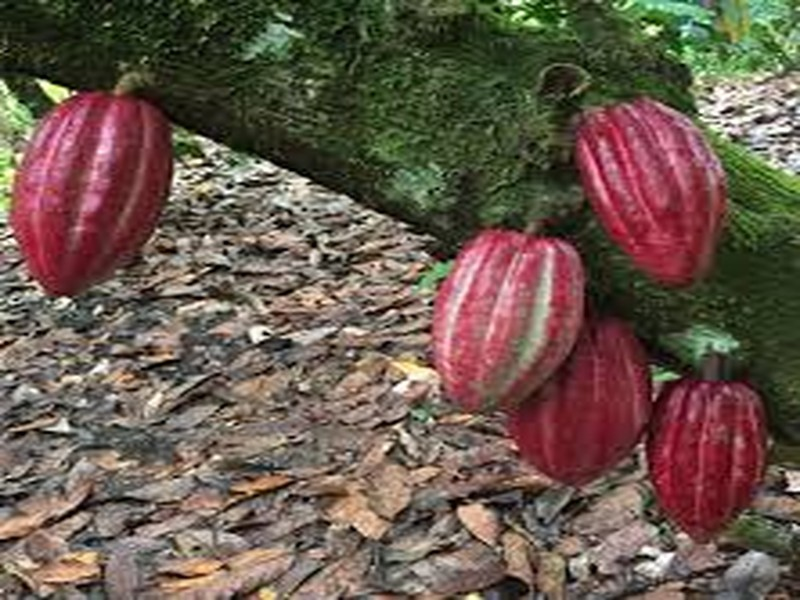Cacaopod: (9, 93, 169, 297), (569, 96, 722, 284)
